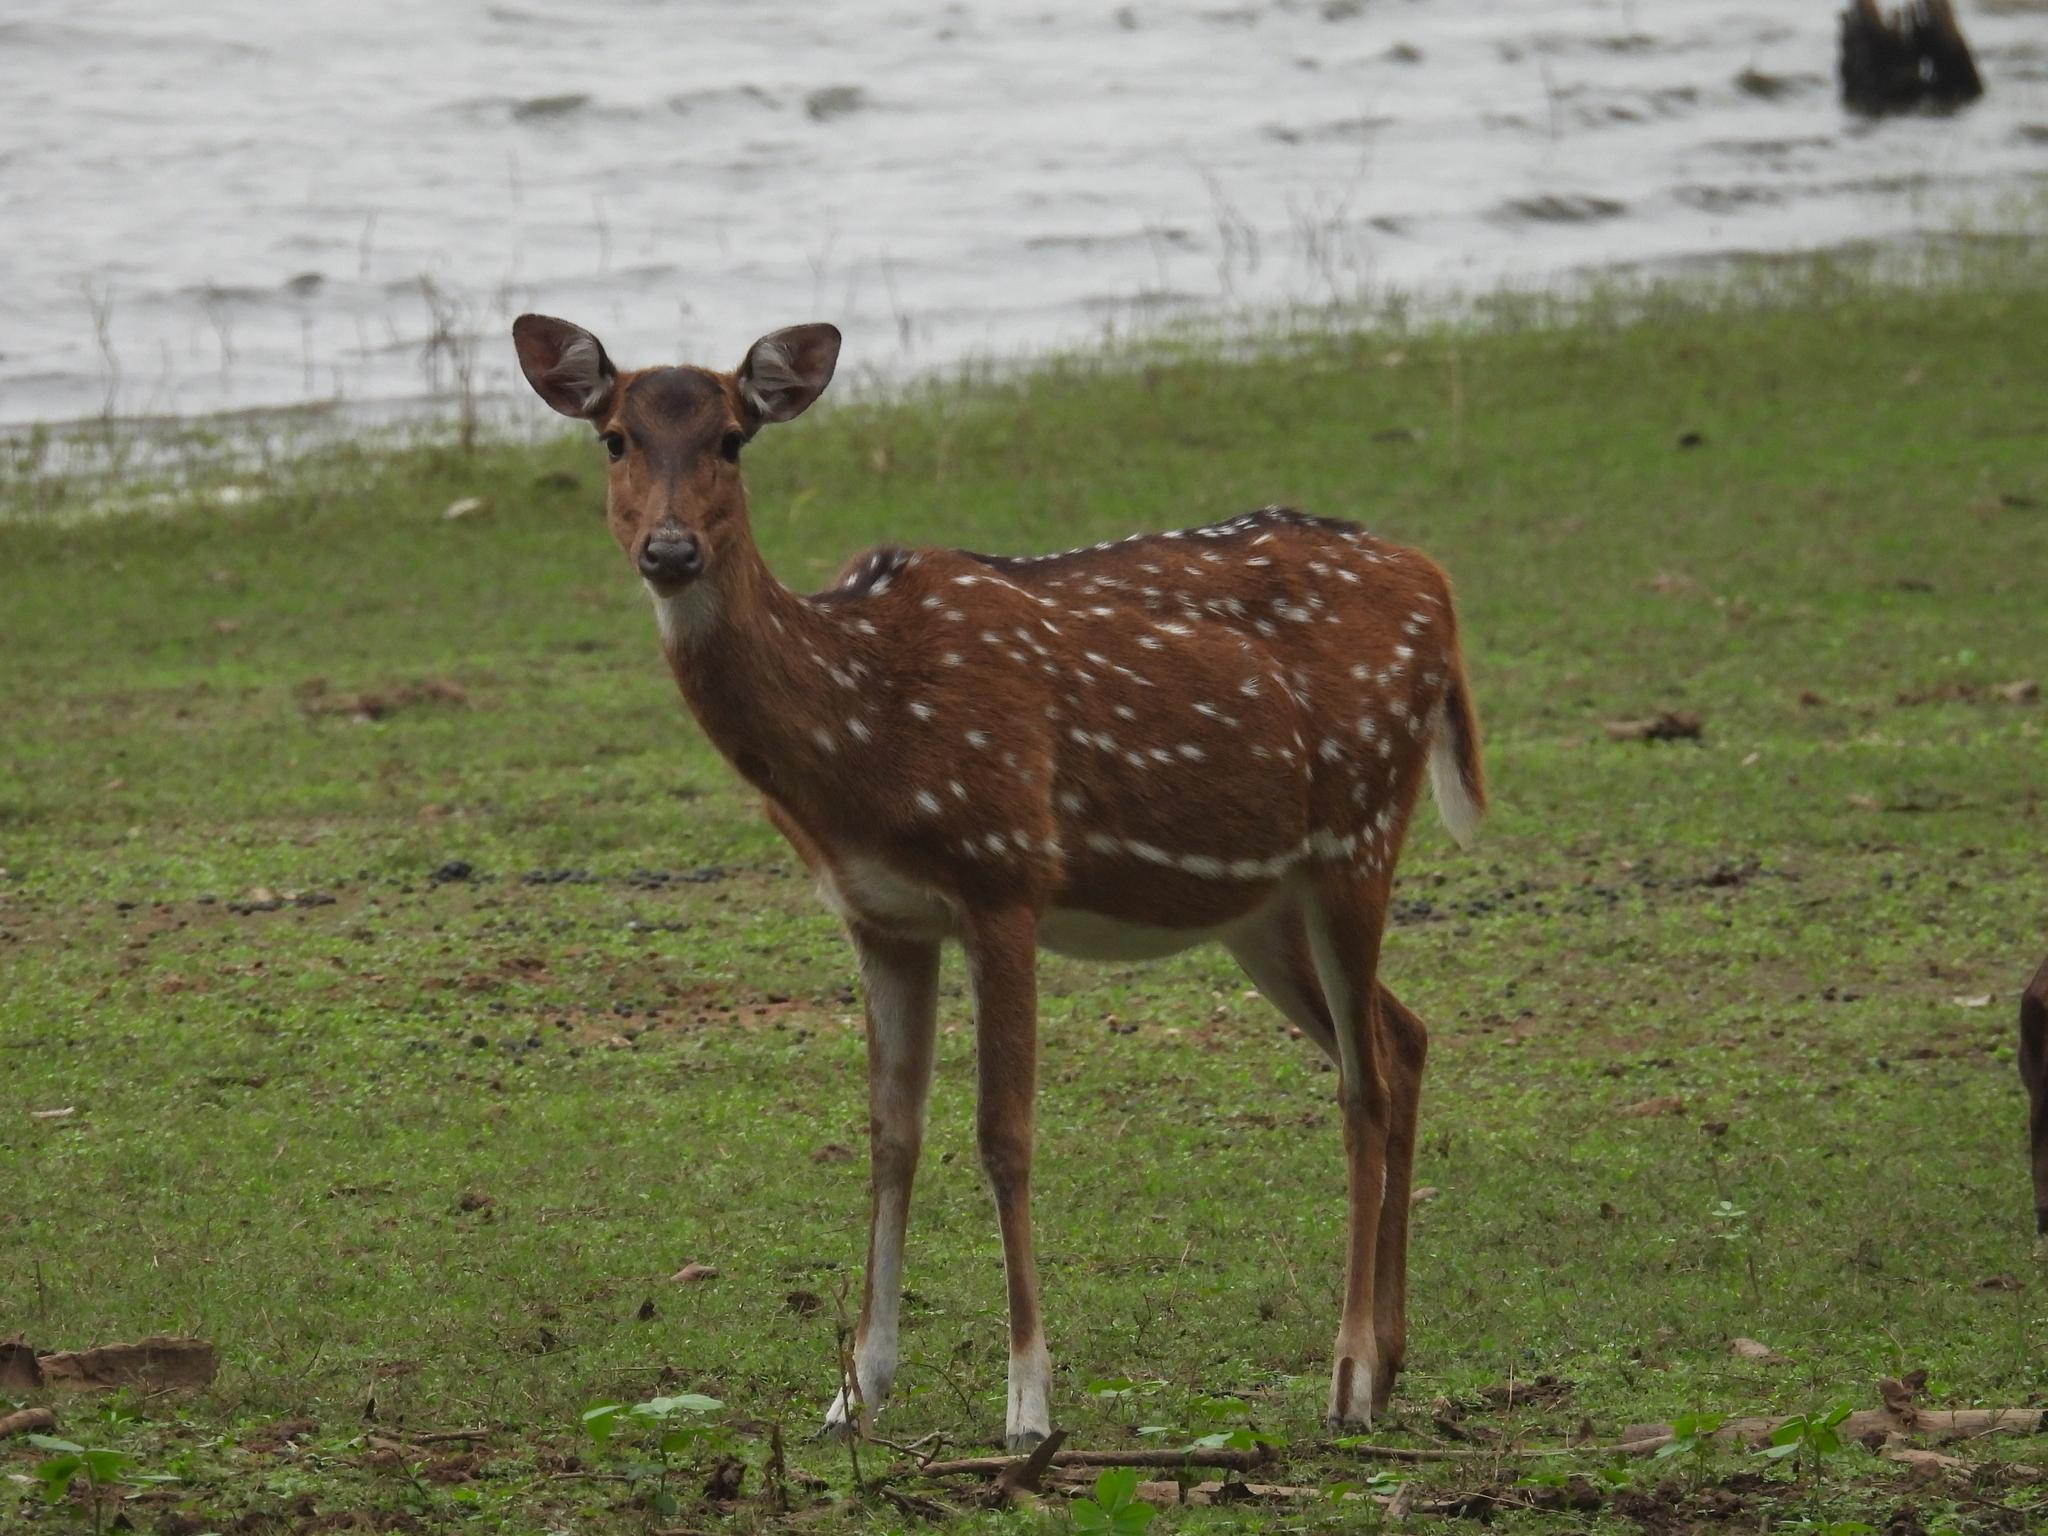Deer: (516, 315, 1484, 1462)
